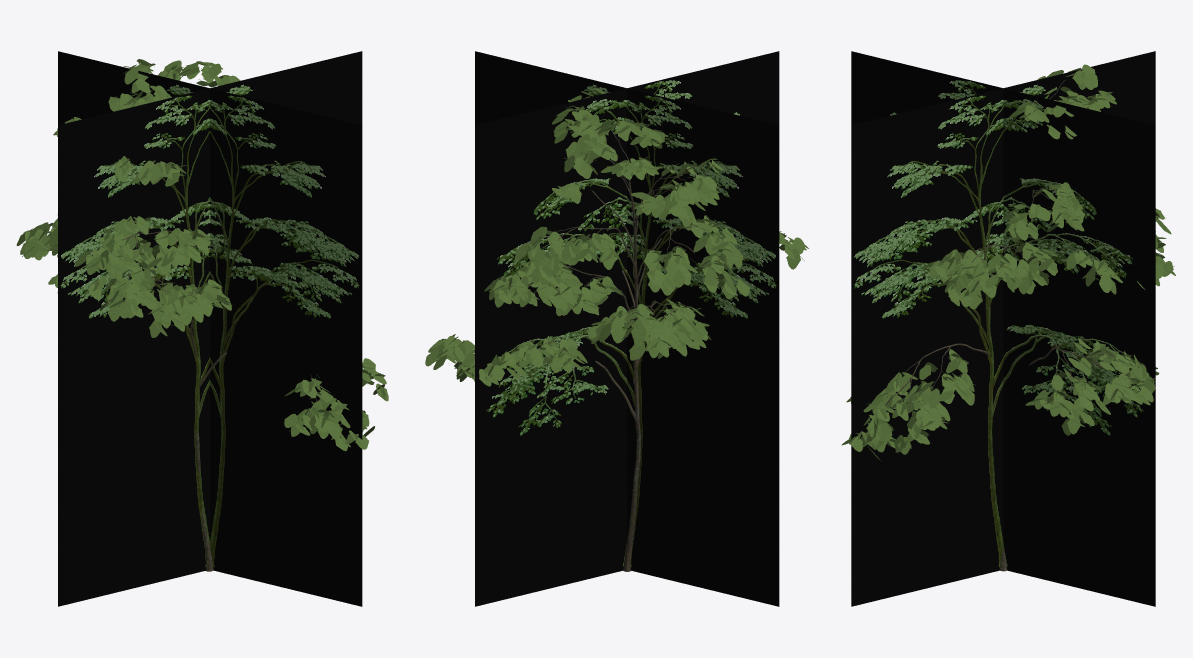
File: bush_01.glb
3 renders of one model, left to right at view 1: azimuth 30°, elevation 25°; view 2: azimuth 150°, elevation 25°; view 3: azimuth 270°, elevation 25°, orthographic.
Parts seen in each view (by area): view 1: AE_15TH_FOREST_BUSH_01_LOD3, AE_15TH_FOREST_BUSH_01_LOD1, AE_15TH_FOREST_BUSH_01_LOD2; view 2: AE_15TH_FOREST_BUSH_01_LOD3, AE_15TH_FOREST_BUSH_01_LOD1, AE_15TH_FOREST_BUSH_01_LOD2; view 3: AE_15TH_FOREST_BUSH_01_LOD3, AE_15TH_FOREST_BUSH_01_LOD1, AE_15TH_FOREST_BUSH_01_LOD2.
Part boxes in pixels (x1,y1,x2,y2): AE_15TH_FOREST_BUSH_01_LOD3: (58,51,362,606); AE_15TH_FOREST_BUSH_01_LOD1: (16,59,388,571); AE_15TH_FOREST_BUSH_01_LOD2: (25,59,386,570); AE_15TH_FOREST_BUSH_01_LOD3: (475,51,779,606); AE_15TH_FOREST_BUSH_01_LOD1: (425,88,806,571); AE_15TH_FOREST_BUSH_01_LOD2: (436,100,808,570); AE_15TH_FOREST_BUSH_01_LOD3: (851,51,1155,606); AE_15TH_FOREST_BUSH_01_LOD1: (842,70,1174,571); AE_15TH_FOREST_BUSH_01_LOD2: (846,64,1175,568).
Bounding box in the file's own units: 1.7 × 2.6 × 1.64.
3 materials, 3 textured.
